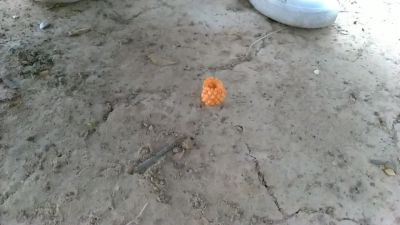eggs: (202, 75, 227, 111)
